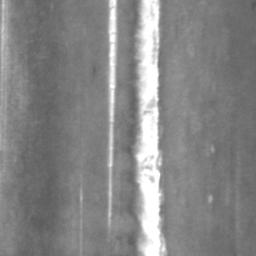Bright scratch: (131, 0, 168, 256), (109, 0, 118, 227)
